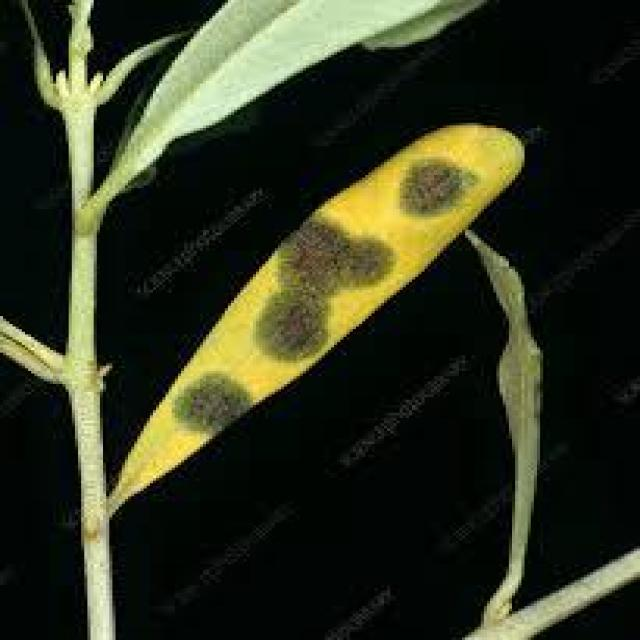Peacock Eye: (112, 123, 518, 509)
